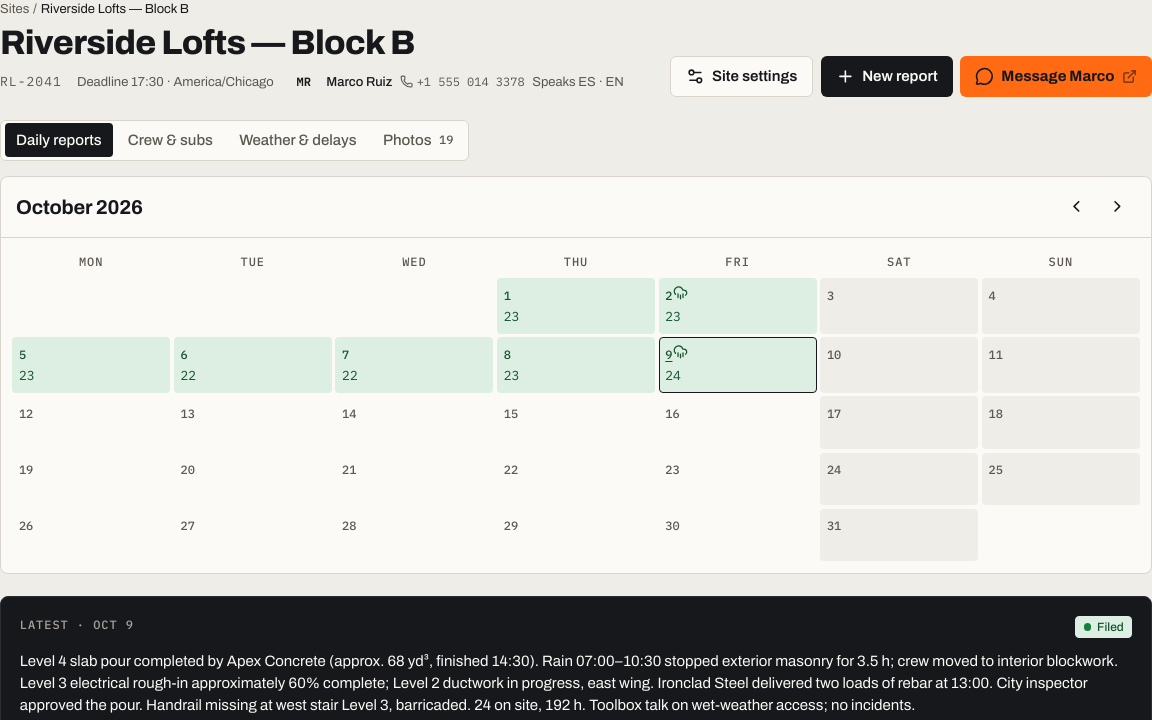
Test case: SiteDetailPage (Riverside Lofts — Block B, Fri Oct 9 2026) › hides Pause site from a project manager
Check: the heading "Riverside Lofts — Block B" is shown, box [0,24,415,60]
Step 1. Click the button "Site settings" → {"x": 742, "y": 76}, box [670,56,813,97]
(page scrolled)
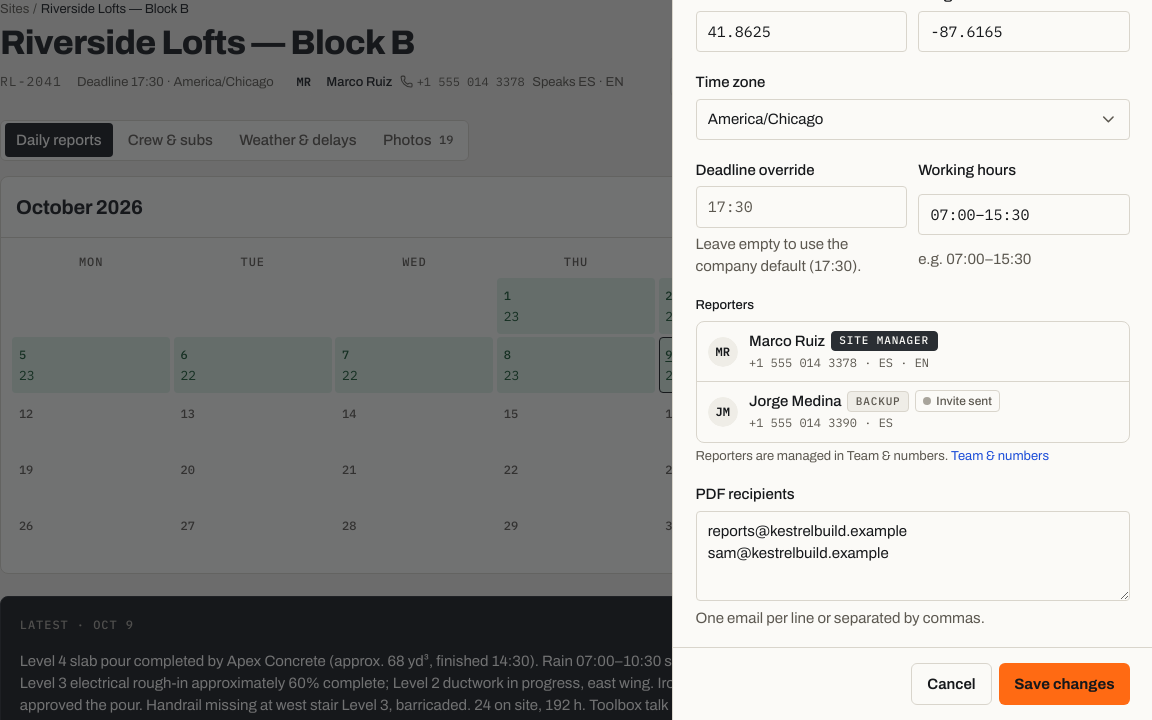
Check: the button "Save changes" is shown, box [999,663,1130,705]
